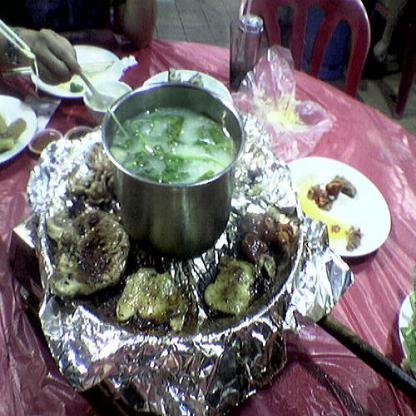chair: (239, 0, 371, 97)
diningtable: (0, 36, 415, 415)
